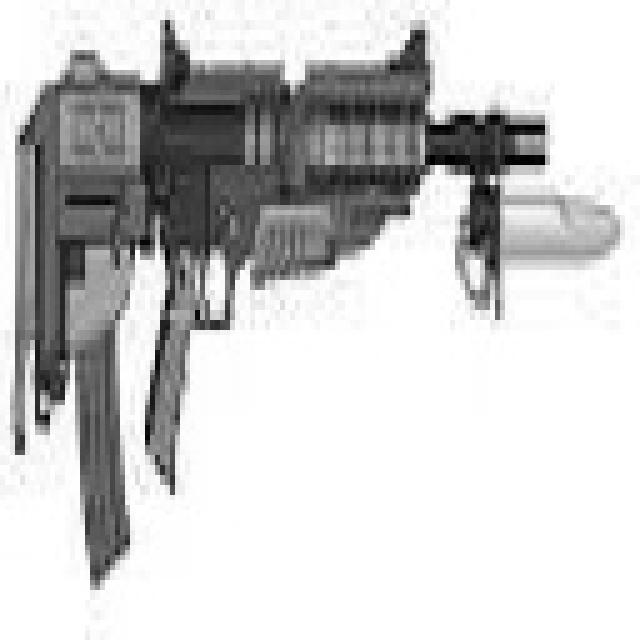Rifle: (0, 0, 574, 598)
